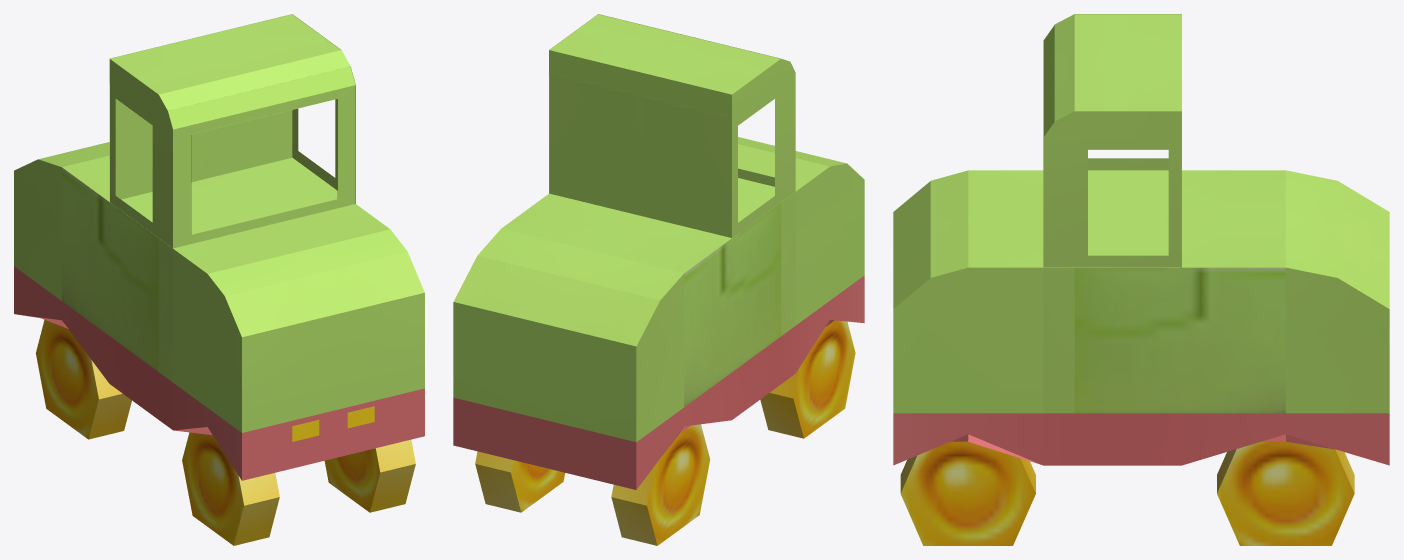
File: Car.fbx
3 renders of one model, left to right at view 1: azimuth 30°, elevation 25°; view 2: azimuth 150°, elevation 25°; view 3: azimuth 270°, elevation 25°, orthographic. The views are drawn at different scales.
Parts seen in each view (by area): view 1: Cube; view 2: Cube; view 3: Cube.
Boxes of the visible parts, left/top/right/bottom form: Cube: left=14, top=14, right=424, bottom=545; Cube: left=453, top=14, right=864, bottom=545; Cube: left=893, top=14, right=1389, bottom=545.
Bounding box in the file's own units: 200 × 420 × 432.
